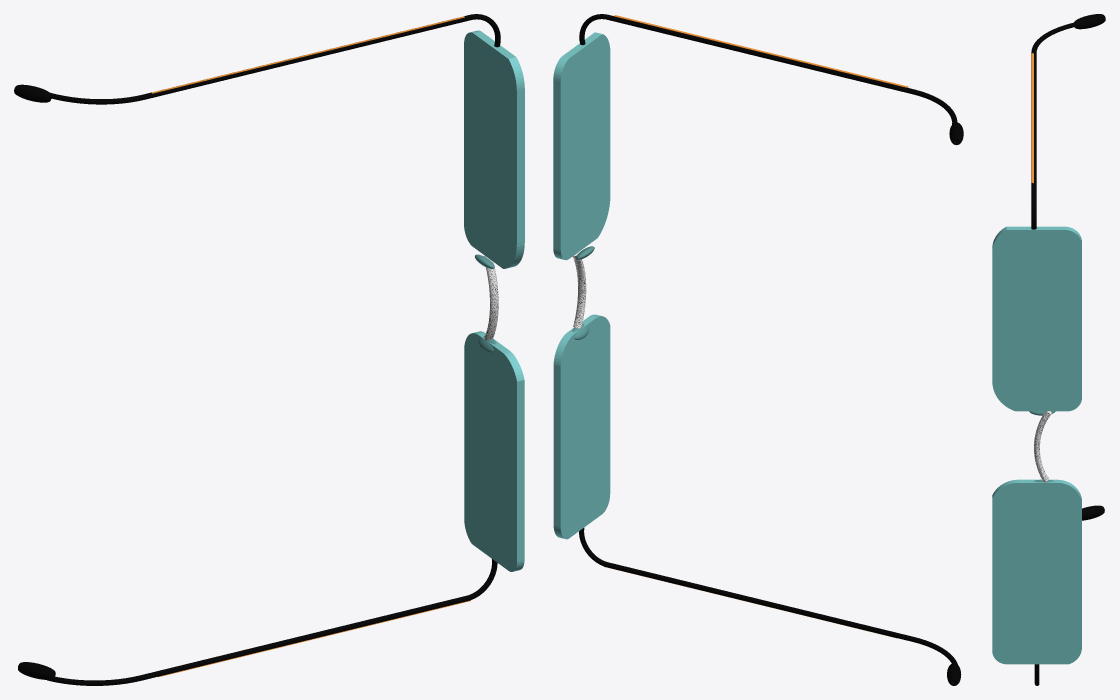
The picture shows the model from 3 angles, left to right: view 1: azimuth 30°, elevation 25°; view 2: azimuth 150°, elevation 25°; view 3: azimuth 270°, elevation 25°; orthographic projection. The views are drawn at different scales.
Visible parts, largest first — view 1: glasses; view 2: glasses; view 3: glasses.
Boxes of the visible parts, left/top/right/bottom form: glasses: left=14, top=14, right=524, bottom=685; glasses: left=553, top=14, right=963, bottom=685; glasses: left=992, top=14, right=1105, bottom=685.
Bounding box in the file's own units: 18945 × 23988 × 4917.
